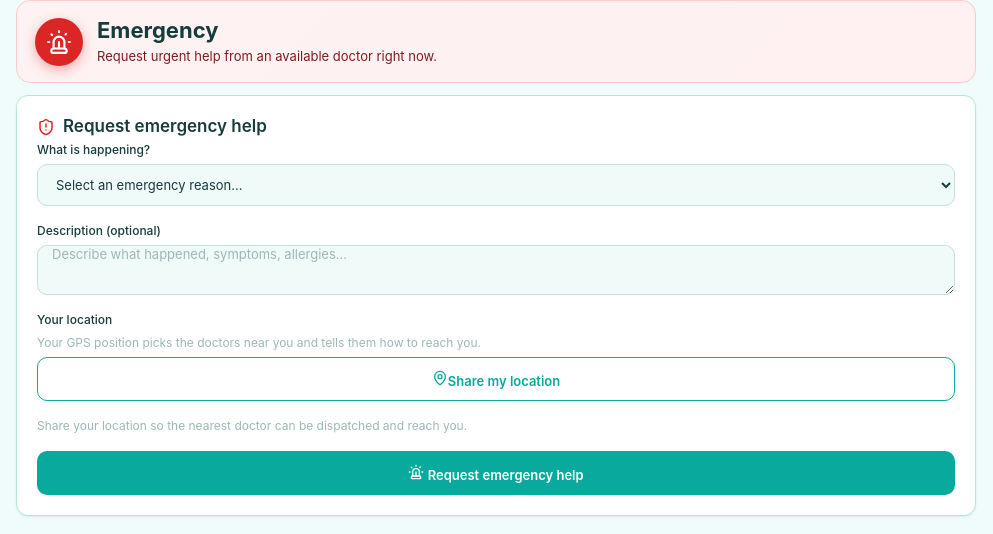
Test case: PatientEmergencyScreen › shares the location without querying any time slots
Click the button "Share my location" at [496, 379], box [37,357,955,401]
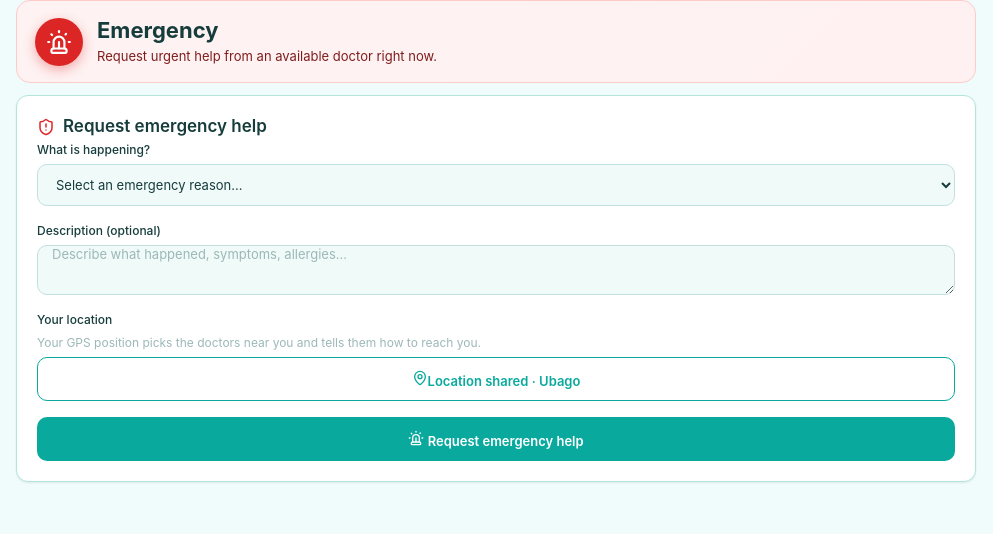
Expected: the button "Location shared · Ubago" is shown, [37,357,955,401]
